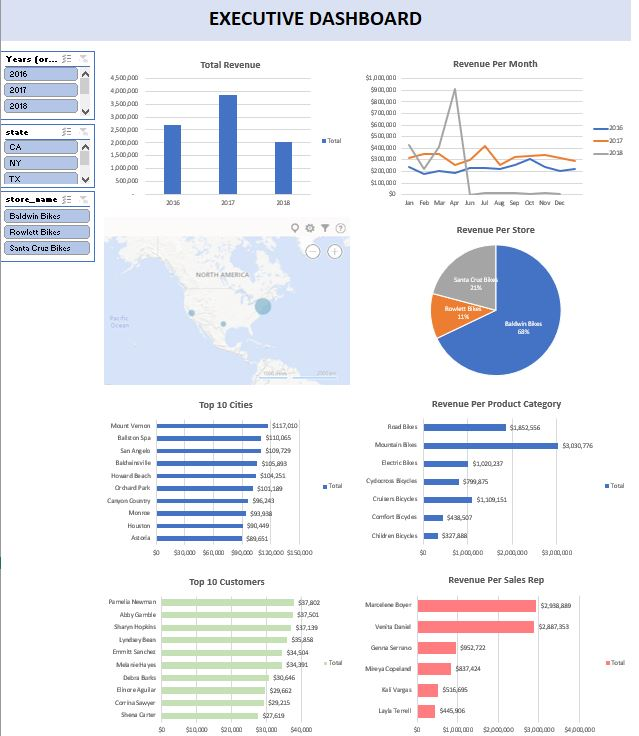

What the dashboard file says about the page in this screenshot:
{"tool":"tableau","page":{"name":"Dashboard 1","canvas":[800,1600],"ordinal":0},"visuals":[{"type":"image","param":"Image/bikephoto.jpg","box":[8,8,143,79]},{"type":"text","box":[151,8,491,79]},{"type":"worksheet","title":"Year","mark":"Automatic","box":[642,8,150,79]},{"type":"worksheet","title":"Banner","mark":"Automatic","box":[8,87,784,145]},{"type":"worksheet","title":"Title","mark":"Automatic","box":[8,232,616,55]},{"type":"filter","title":"Revenue / State","param":"[federated.1fxpd5v0ho36s11cyq3bz1r3syxu].[none:state:nk]","box":[624,232,168,55]},{"type":"worksheet","title":"Revenue / Year","mark":"Bar","rows":["revenue"],"cols":["order_date"],"box":[8,287,358,351]},{"type":"worksheet","title":"Revenue / Month","mark":"Automatic","rows":["revenue"],"cols":["order_date"],"box":[366,287,426,351]},{"type":"worksheet","title":"Revenue / State","mark":"Multipolygon","box":[8,638,358,252]},{"type":"worksheet","title":"Revenue / Store","mark":"Pie","box":[366,638,426,252]},{"type":"worksheet","title":"Revenue / City","mark":"Automatic","rows":["city"],"cols":["revenue"],"box":[8,890,325,351]},{"type":"worksheet","title":"Revenue / Category","mark":"Automatic","box":[333,890,459,351]},{"type":"worksheet","title":"Top Customers","mark":"Automatic","rows":["customers"],"cols":["revenue"],"box":[8,1241,392,351]},{"type":"worksheet","title":"Revenue / Sales Rep","mark":"Automatic","rows":["sales_rep"],"cols":["revenue"],"box":[400,1241,392,351]}]}

Visuals, with their boxes on the page's 800x1600 design canvas (x1, y1, x2, y2). These are canvas units, not pixel positions in the 639x736 screenshot, which may show the page scaled, cropped or inside an application window:
image: bbox=(8, 8, 151, 87)
text: bbox=(151, 8, 642, 87)
"Year" worksheet: bbox=(642, 8, 792, 87)
"Banner" worksheet: bbox=(8, 87, 792, 232)
"Title" worksheet: bbox=(8, 232, 624, 287)
"Revenue / State" filter: bbox=(624, 232, 792, 287)
"Revenue / Year" worksheet (Bar marks): bbox=(8, 287, 366, 638)
"Revenue / Month" worksheet: bbox=(366, 287, 792, 638)
"Revenue / State" worksheet (Multipolygon marks): bbox=(8, 638, 366, 890)
"Revenue / Store" worksheet (Pie marks): bbox=(366, 638, 792, 890)
"Revenue / City" worksheet: bbox=(8, 890, 333, 1241)
"Revenue / Category" worksheet: bbox=(333, 890, 792, 1241)
"Top Customers" worksheet: bbox=(8, 1241, 400, 1592)
"Revenue / Sales Rep" worksheet: bbox=(400, 1241, 792, 1592)
